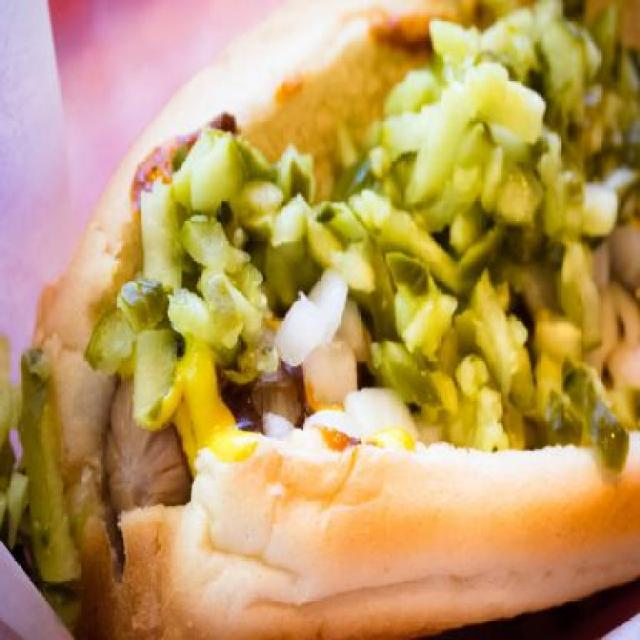Hot dog: (87, 18, 598, 636)
